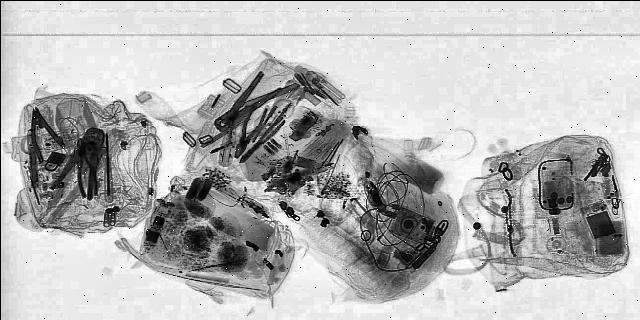Pliers: (191, 70, 295, 132), (42, 125, 120, 199), (220, 103, 276, 157), (234, 116, 288, 162), (68, 138, 98, 196)
